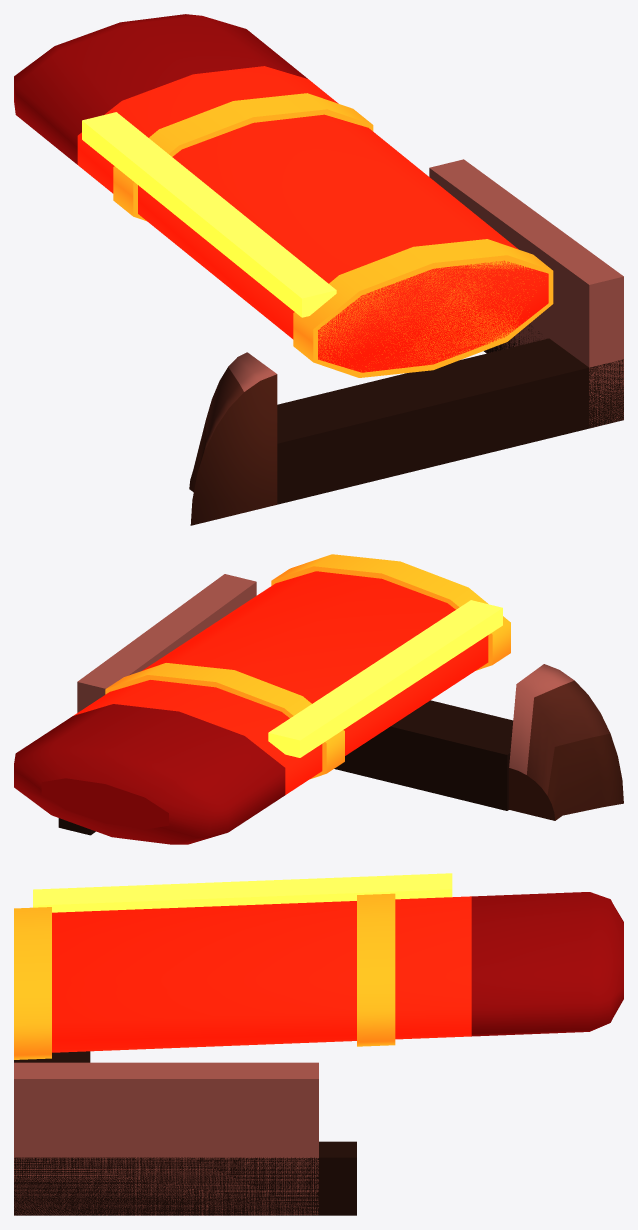
File: newshf-153.glb
The picture shows the model from 3 angles, top to bottom: view 1: azimuth 30°, elevation 25°; view 2: azimuth 150°, elevation 25°; view 3: azimuth 270°, elevation 25°; orthographic projection. The views are drawn at different scales.
Parts seen in each view (by area): view 1: newshf-153; view 2: newshf-153; view 3: newshf-153.
Boxes of the visible parts, x1,y1,x2,y2 form: newshf-153: (14,14,623,525); newshf-153: (14,554,623,844); newshf-153: (14,873,623,1215).
Bounding box in the file's own units: 1.04 × 0.5086 × 1.33.
